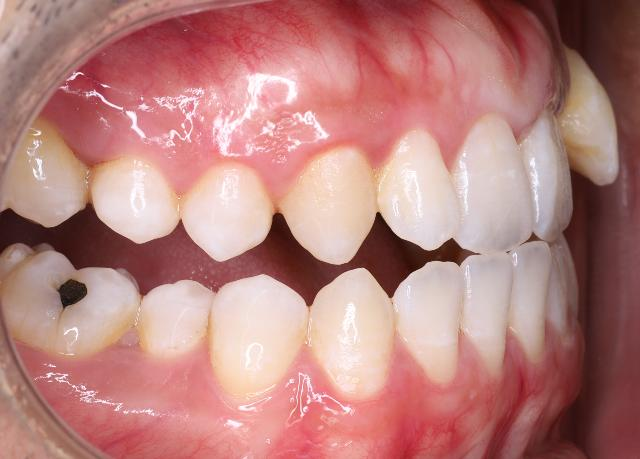canine class II 1/4: (212, 140, 400, 418)
molar class III 1/2: (0, 116, 140, 390)
